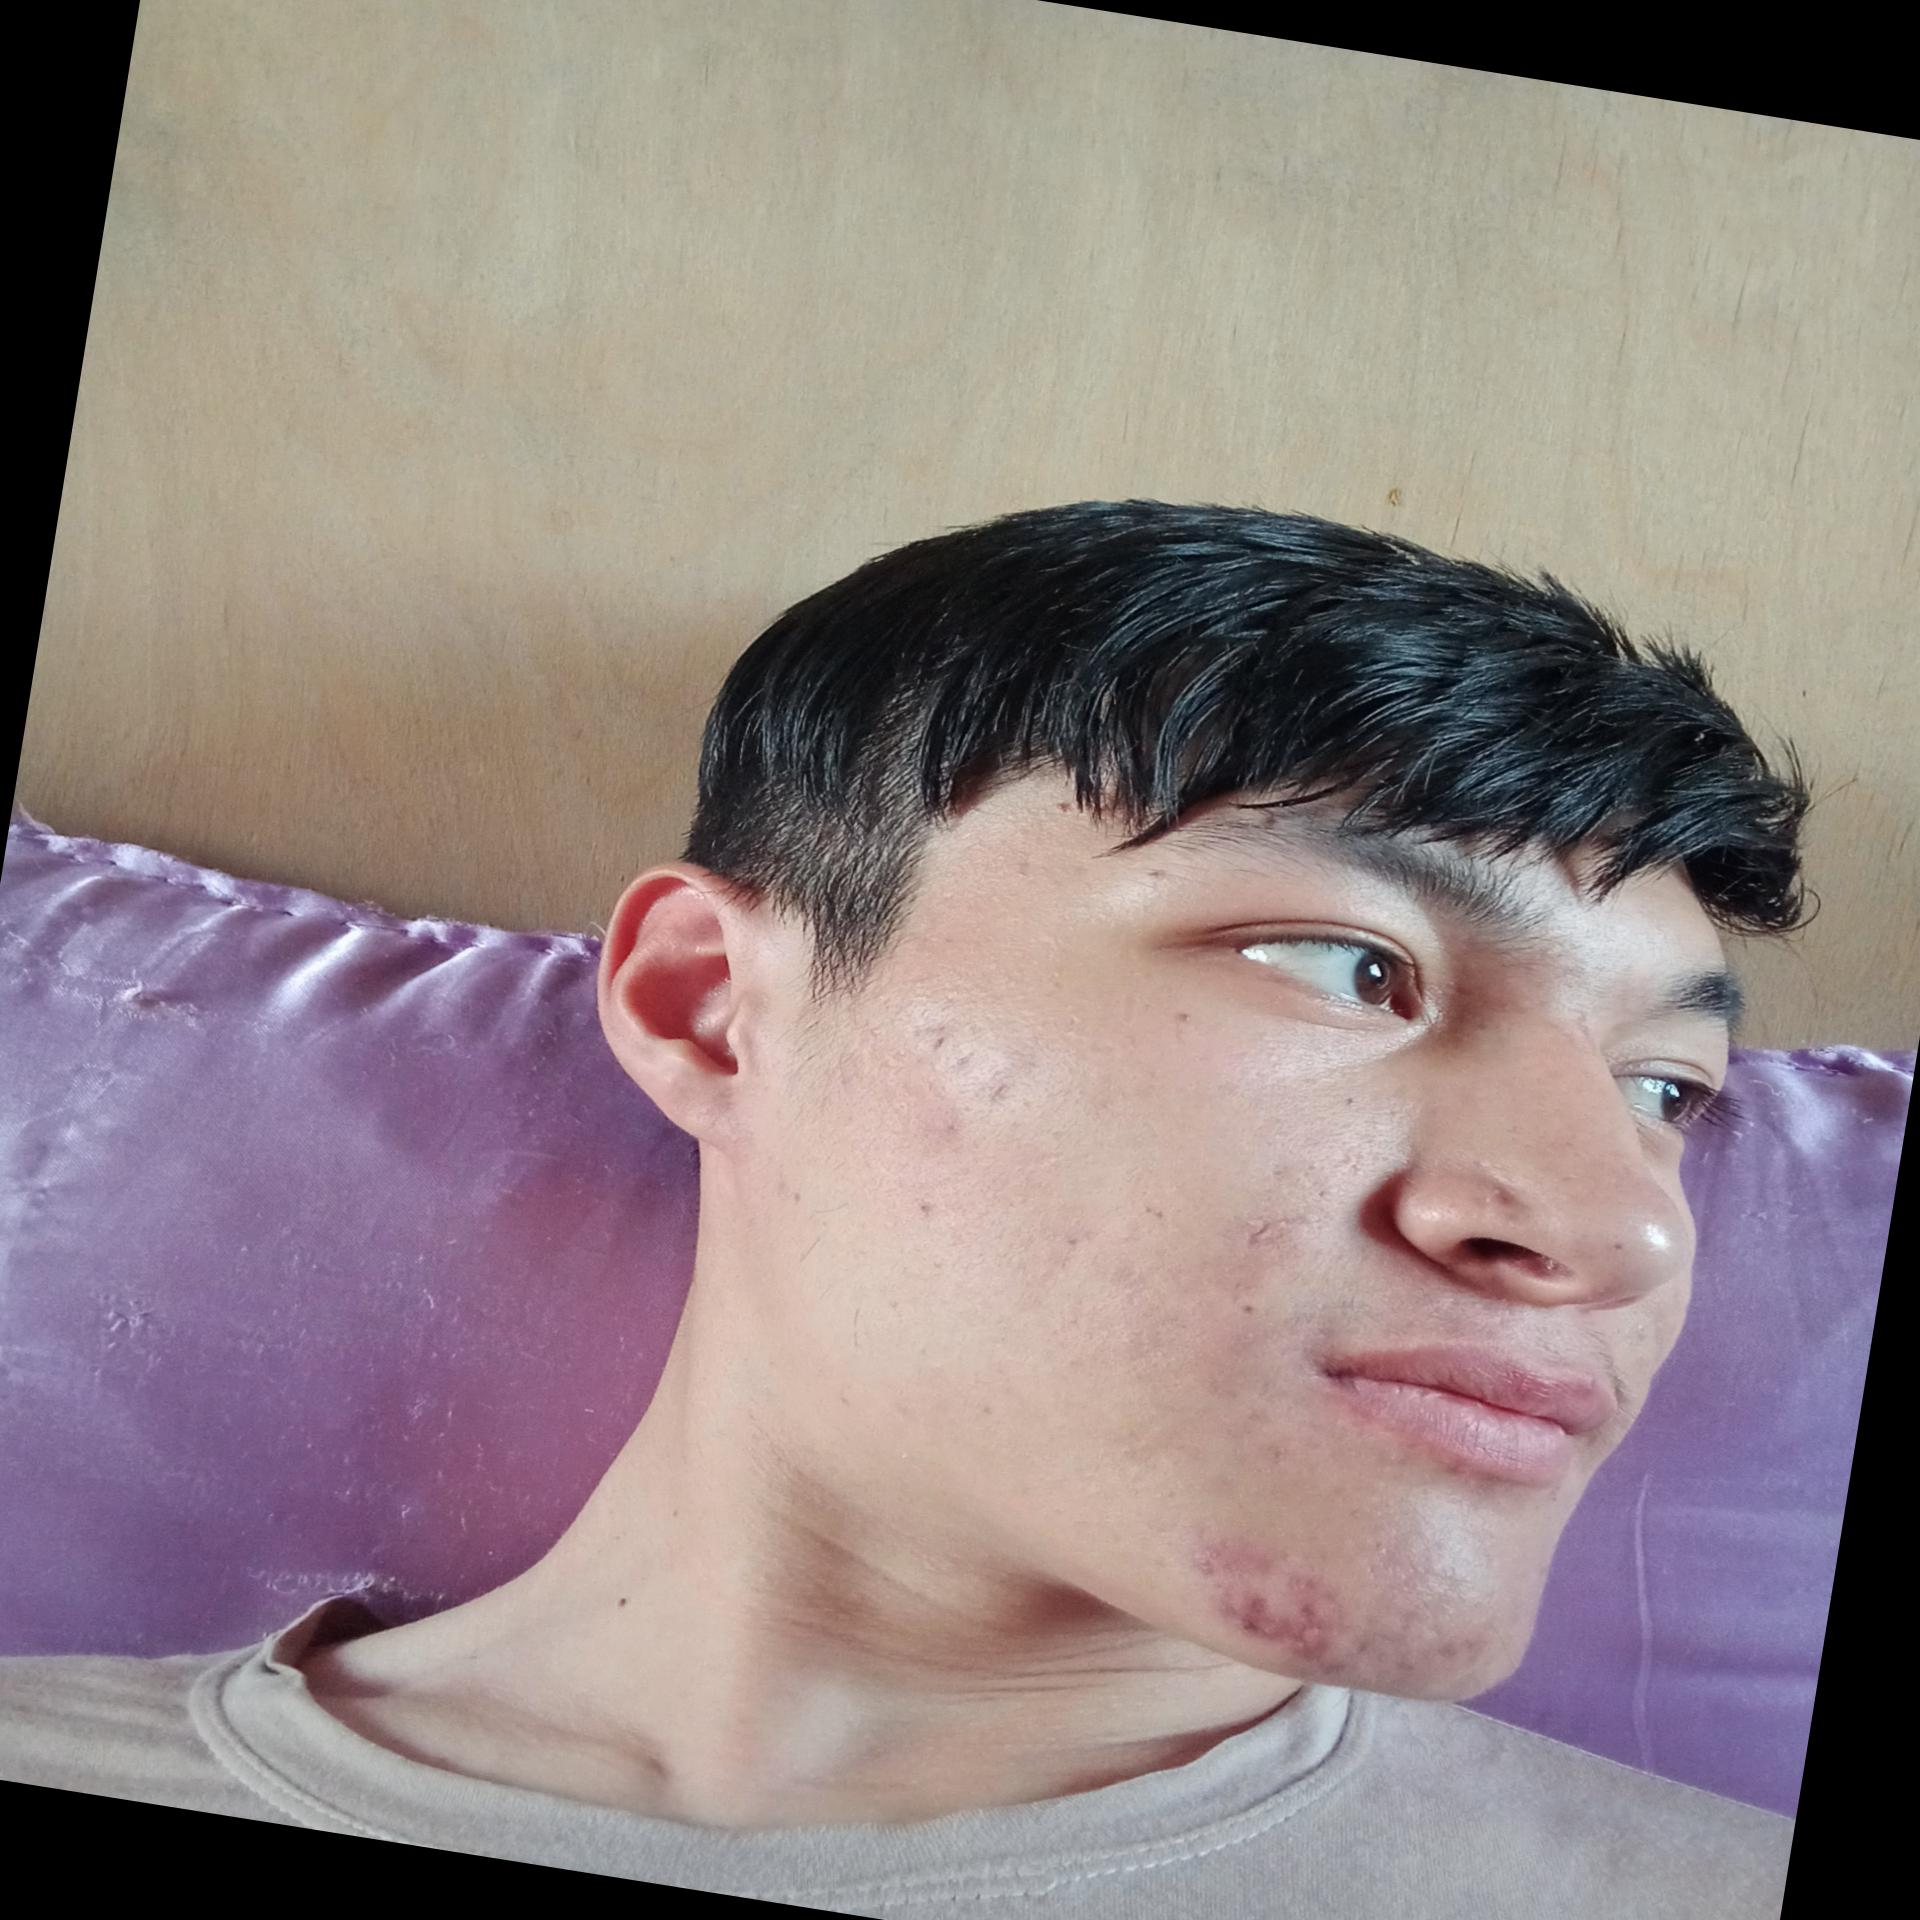Acne: (907, 1020, 1029, 1109), (1208, 1584, 1335, 1667), (1190, 1531, 1284, 1588), (1234, 1196, 1319, 1257), (1428, 1628, 1502, 1669), (1435, 1451, 1507, 1491), (1319, 1630, 1377, 1677), (1254, 1438, 1303, 1468), (1284, 1568, 1335, 1596), (1391, 1651, 1429, 1679), (1486, 1182, 1524, 1210)
Englarged Pores: (1264, 1087, 1422, 1224)
